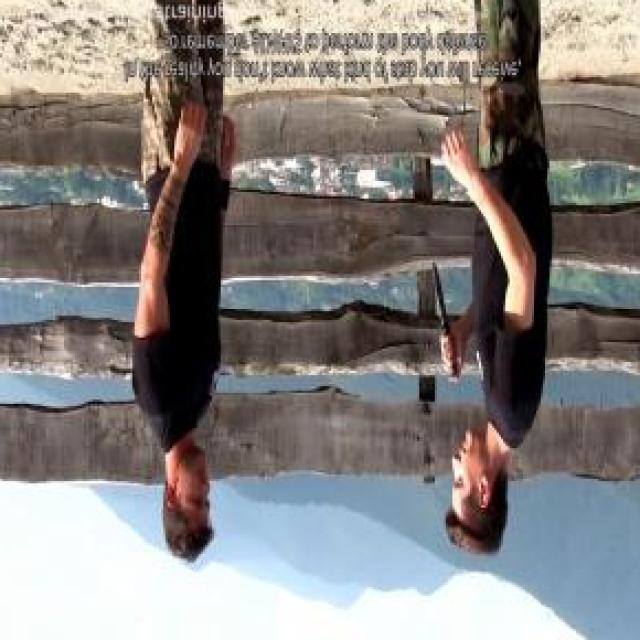knife: (428, 255, 462, 388)
